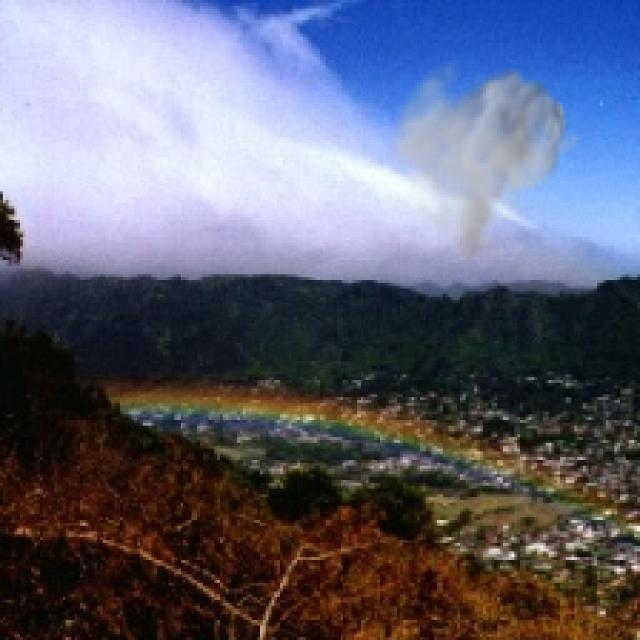Smoke: (383, 48, 583, 272)
